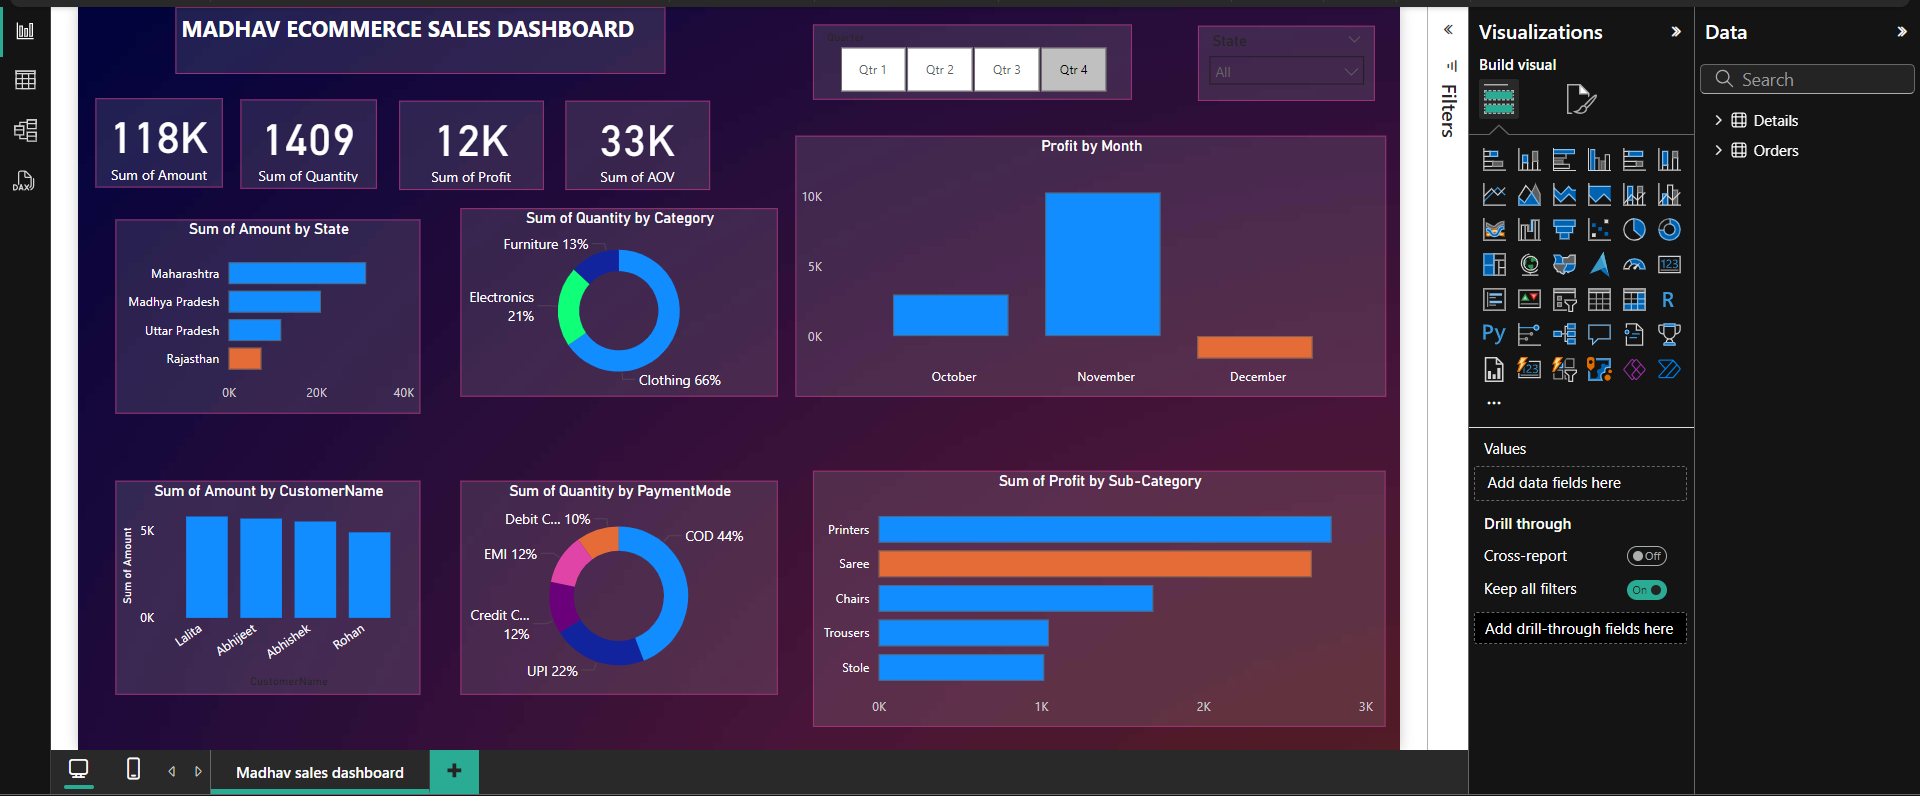

What the dashboard file says about the page in this screenshot:
{"tool":"powerbi","page":{"name":"Madhav sales dashboard","canvas":[1280,720],"ordinal":0},"visuals":[{"type":"textbox","box":[94.7,0,474.8,64.5],"z":0},{"type":"columnChart","title":"Profit by Month","fields":{"Y":["Sum(Details.Profit)"],"Category":["Orders.Order Date.Variation.Date Hierarchy.Month"]},"box":[694.3,124.9,572.2,252.5],"z":1000},{"type":"barChart","fields":{"Category":["Details.Sub-Category"],"Y":["Sum(Details.Profit)"]},"box":[711.8,449.1,554.4,248.2],"z":2000},{"type":"donutChart","fields":{"Category":["Details.Category"],"Y":["Sum(Details.Quantity)"]},"box":[370.5,194.9,307.4,182.5],"z":3000},{"type":"donutChart","fields":{"Y":["Sum(Details.Quantity)"],"Category":["Details.PaymentMode"]},"box":[370.4,458.8,307.5,207],"z":4000},{"type":"card","fields":{"Values":["Sum(Details.Amount)"]},"box":[16.5,87.8,123.5,86.4],"z":5000},{"type":"card","fields":{"Values":["Sum(Details.Quantity)"]},"box":[157.8,89.2,131.7,86.4],"z":6000},{"type":"card","fields":{"Values":["Sum(Details.Profit)"]},"box":[311.5,90.6,140,86.4],"z":7000},{"type":"card","fields":{"Values":["Sum(Details.AOV)"]},"box":[472,90.6,140,86.4],"z":8000},{"type":"barChart","fields":{"Category":["Orders.State"],"Y":["Sum(Details.Amount)"]},"box":[36.3,205.8,295.4,187.6],"z":9000},{"type":"columnChart","fields":{"Category":["Orders.CustomerName"],"Y":["Sum(Details.Amount)"]},"box":[36.3,458.8,295.4,207],"z":10000},{"type":"slicer","fields":{"Values":["Orders.Order Date.Variation.Date Hierarchy.Quarter"]},"box":[712.2,16.5,308.7,72.7],"z":11000},{"type":"slicer","fields":{"Values":["Orders.State"]},"box":[1084.1,17.8,171.5,72.7],"z":12000}]}

Visuals, with their boxes on the page's 1280x720 design canvas (x1, y1, x2, y2). These are canvas units, not pixel positions in the 1920x796 screenshot, which may show the page scaled, cropped or inside an application window:
textbox: [95, 0, 570, 64]
"Profit by Month" columnChart: [694, 125, 1266, 377]
barChart - Details.Sub-Category x Sum(Details.Profit): [712, 449, 1266, 697]
donutChart - Details.Category x Sum(Details.Quantity): [370, 195, 678, 377]
donutChart - Sum(Details.Quantity) x Details.PaymentMode: [370, 459, 678, 666]
card - Sum(Details.Amount): [16, 88, 140, 174]
card - Sum(Details.Quantity): [158, 89, 290, 176]
card - Sum(Details.Profit): [312, 91, 452, 177]
card - Sum(Details.AOV): [472, 91, 612, 177]
barChart - Orders.State x Sum(Details.Amount): [36, 206, 332, 393]
columnChart - Orders.CustomerName x Sum(Details.Amount): [36, 459, 332, 666]
slicer - Orders.Order Date.Variation.Date Hierarchy.Quarter: [712, 16, 1021, 89]
slicer - Orders.State: [1084, 18, 1256, 90]
